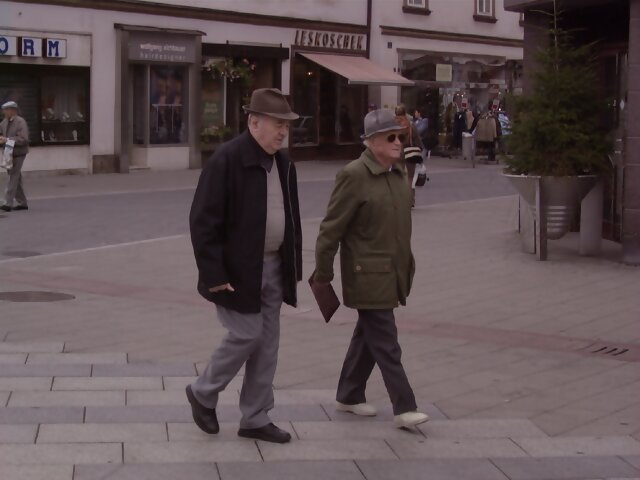person: (312, 107, 457, 430), (183, 85, 307, 446), (1, 99, 32, 211)
